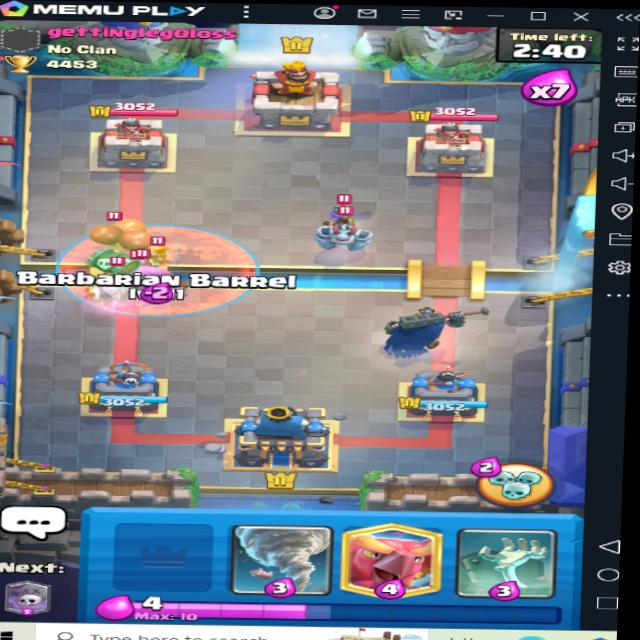electro-golem: (102, 255, 192, 307)
mega-minion: (303, 214, 396, 253)
musketeer: (317, 192, 373, 232)
royal-ghost: (69, 262, 161, 303)
skeleton-barrel: (89, 213, 145, 277)
valkyrie: (138, 234, 194, 266)
